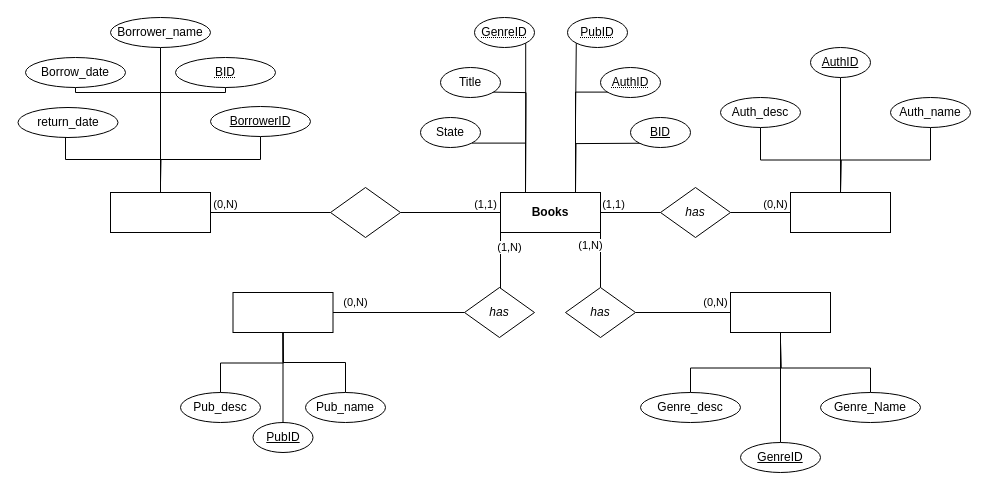
The diagram is 988 pixels wide and 490 high, and some of its shapes have lost their labels. Each missing label, with the box of its shape:
Author: (790, 192, 890, 232)
Borrower: (110, 192, 210, 232)
borrows: (330, 186, 400, 238)
Genre: (730, 292, 830, 332)
Publisher: (232, 292, 333, 332)
